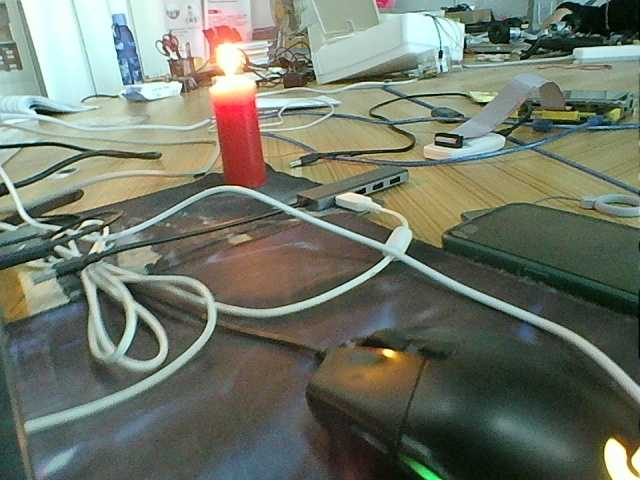candle: (204, 83, 274, 193)
fire: (210, 43, 251, 80)
